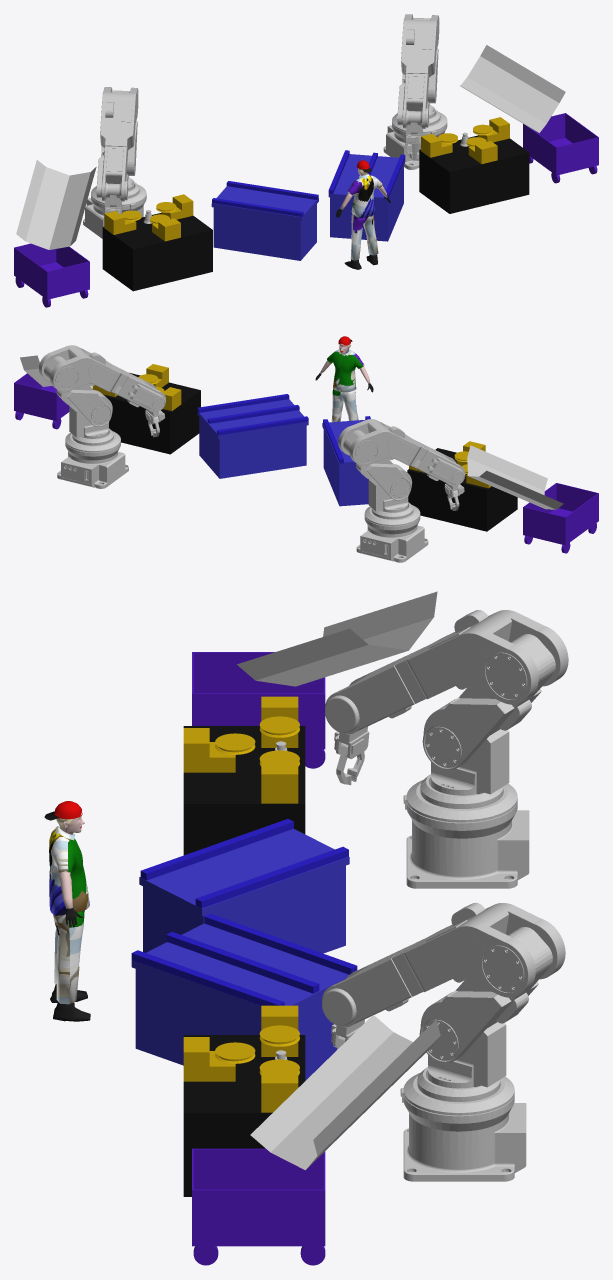
3 views of the same model, one above another, from view 1: azimuth 30°, elevation 25°; view 2: azimuth 150°, elevation 25°; view 3: azimuth 270°, elevation 25° (orthographic). The views are drawn at different scales.
Parts seen in each view (by area): view 1: Cube.003, Cube.002, Cube.001, OBJ_Robot, OBJ_Robot.001, 평면.001, 평면, Cube.004, 큐브_큐브.003, 큐브_큐브.001, Imported_OBJ_Object_sep42, Imported_OBJ_Object_sep37 (+8 smaller); view 2: OBJ_Robot.001, OBJ_Robot, Cube.004, Cube.001, Cube.002, 큐브_큐브.001, 평면.001, Cube.003, 큐브_큐브.003, Imported_OBJ_Object_sep42, Imported_OBJ_Object_sep37, 큐브.004 (+6 smaller); view 3: OBJ_Robot.001, OBJ_Robot, Cube.004, Cube.003, 큐브_큐브.003, 평면, Cube.001, 평면.001, Cube.002, 큐브_큐브.001, roll1_큐브, roll1_큐브.001 (+11 smaller).
Boxes of the visible parts, x1,y1,x2,y2 form: Cube.003: [211, 186, 318, 260]; Cube.002: [419, 135, 529, 213]; Cube.001: [102, 212, 212, 291]; OBJ_Robot: [383, 14, 447, 169]; OBJ_Robot.001: [83, 87, 146, 238]; 평면.001: [16, 160, 96, 249]; 평면: [460, 45, 565, 133]; Cube.004: [328, 154, 405, 241]; 큐브_큐브.003: [523, 113, 598, 175]; 큐브_큐브.001: [14, 243, 89, 299]; Imported_OBJ_Object_sep42: [347, 174, 382, 218]; Imported_OBJ_Object_sep37: [350, 214, 378, 260]; OBJ_Robot.001: [338, 419, 465, 562]; OBJ_Robot: [39, 345, 165, 488]; Cube.004: [197, 399, 308, 478]; Cube.001: [407, 448, 517, 531]; Cube.002: [103, 372, 200, 454]; 큐브_큐브.001: [523, 483, 598, 545]; 평면.001: [467, 445, 563, 509]; Cube.003: [322, 420, 368, 506]; 큐브_큐브.003: [14, 373, 69, 421]; Imported_OBJ_Object_sep42: [327, 349, 364, 392]; Imported_OBJ_Object_sep37: [331, 389, 358, 422]; 큐브.004: [197, 394, 289, 412]; OBJ_Robot.001: [325, 610, 568, 888]; OBJ_Robot: [322, 902, 565, 1181]; Cube.004: [131, 923, 348, 1080]; Cube.003: [139, 828, 349, 953]; 큐브_큐브.003: [192, 1148, 325, 1246]; 평면: [250, 1015, 440, 1170]; Cube.001: [183, 726, 305, 855]; 평면.001: [237, 591, 437, 686]; Cube.002: [183, 1035, 305, 1196]; 큐브_큐브.001: [192, 652, 325, 749]; roll1_큐브: [183, 728, 255, 772]; roll1_큐브.001: [183, 1037, 255, 1081].
Bounding box in the file's own units: 41.33 × 9.02 × 17.
